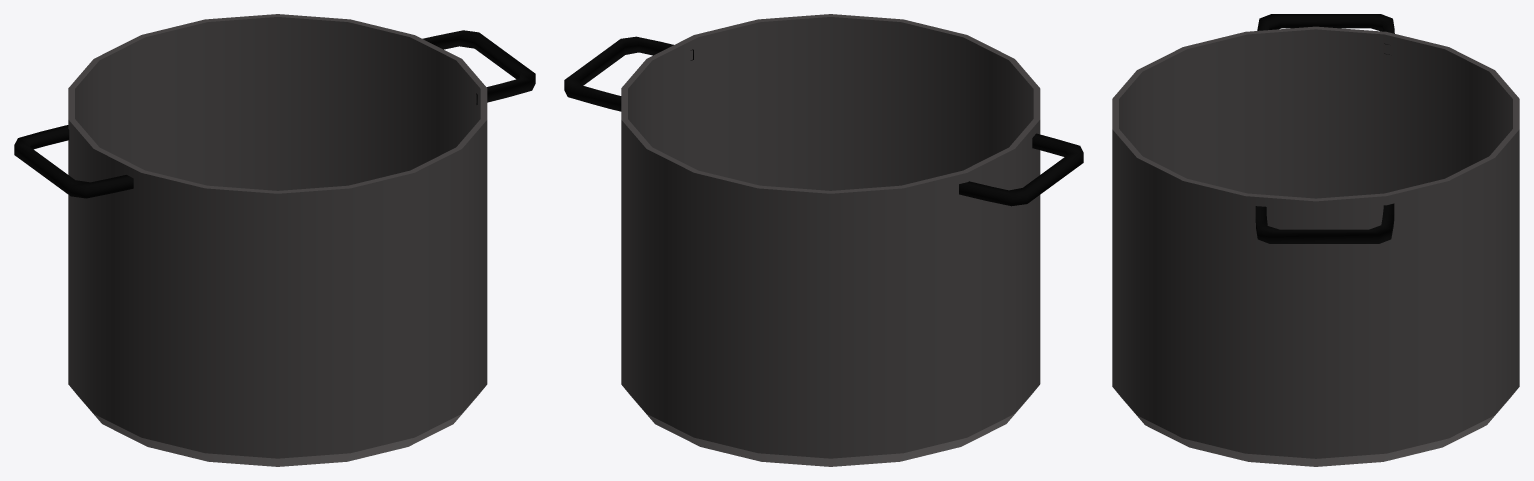
The model's file is Kitchen_CrockPotSmall.FBX.
3 views of the same model, side by side, from view 1: azimuth 30°, elevation 25°; view 2: azimuth 150°, elevation 25°; view 3: azimuth 270°, elevation 25° (orthographic). The views are drawn at different scales.
Visible parts, largest first — view 1: Kitchen_Crockpot; view 2: Kitchen_Crockpot; view 3: Kitchen_Crockpot.
Part boxes in pixels (x1,y1,x2,y2): Kitchen_Crockpot: [14, 14, 535, 466]; Kitchen_Crockpot: [564, 14, 1083, 466]; Kitchen_Crockpot: [1112, 14, 1519, 466].
Bounding box in the file's own units: 0.3352 × 0.1915 × 0.2622.
